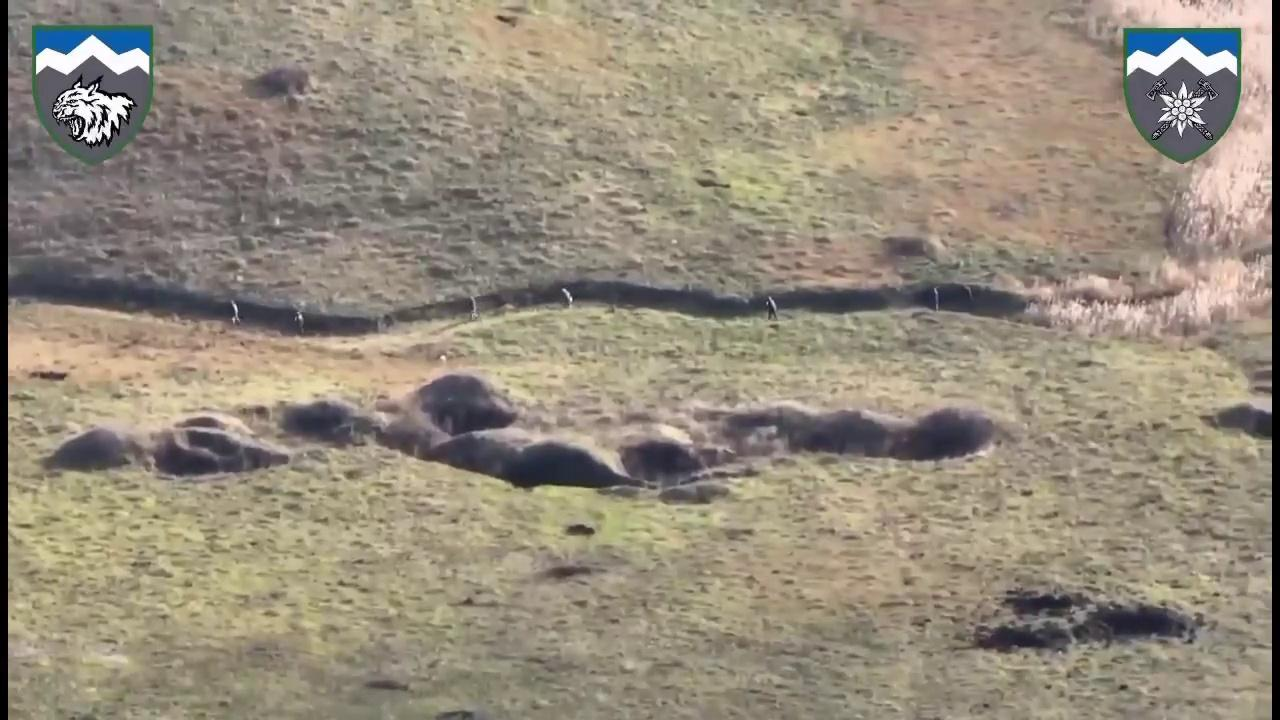person: (763, 292, 778, 323), (292, 311, 304, 336), (962, 285, 972, 312), (562, 286, 572, 311), (468, 296, 477, 321), (230, 299, 238, 324), (932, 288, 939, 310)
trench: (10, 258, 1268, 339)
